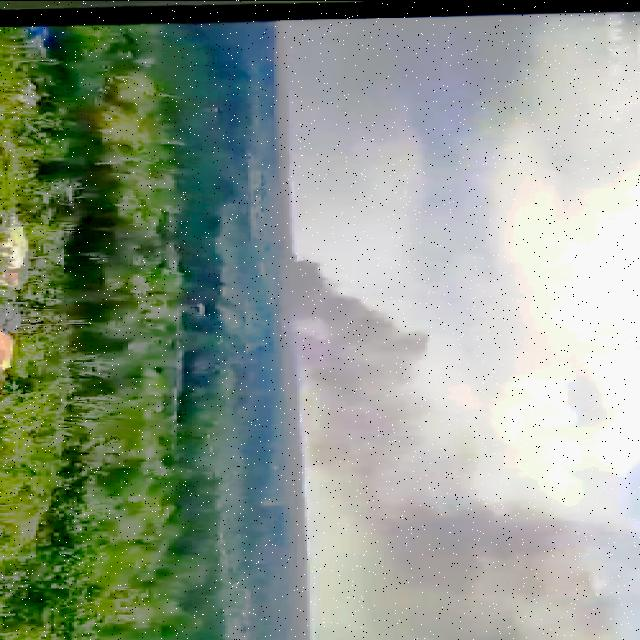asap: (265, 244, 640, 640)
